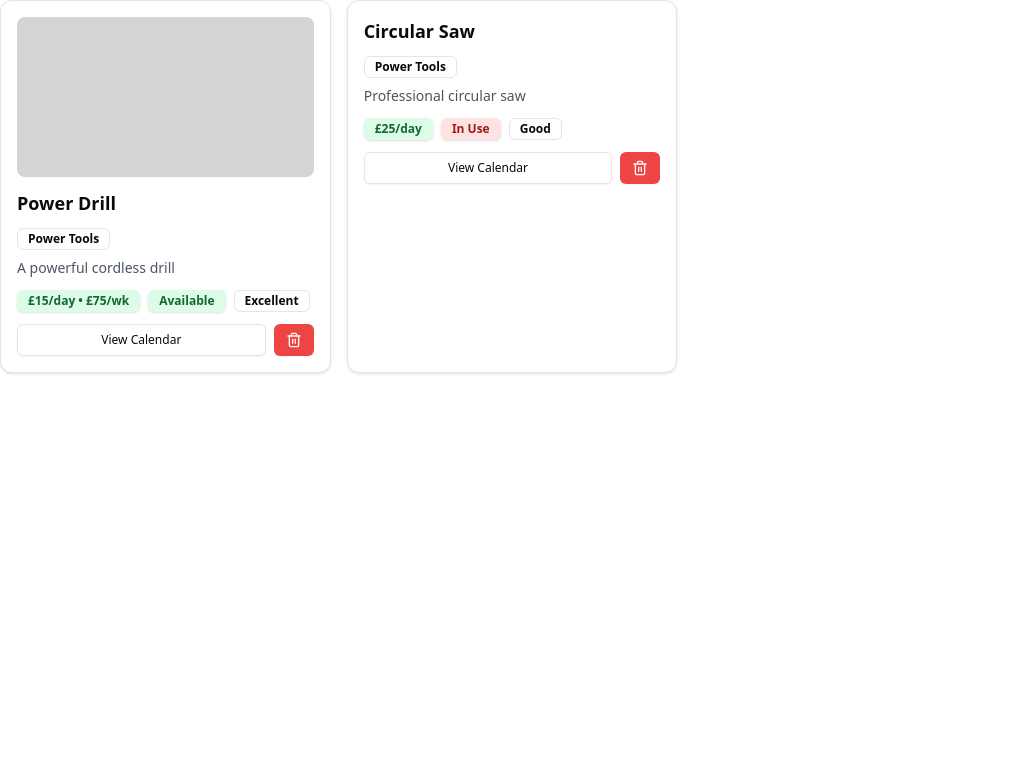
MyTools Component › Delete functionality › opens delete confirmation dialog when delete button clicked
What coordinates should you click on to do the following:
click the button without text below "£15/day • £75/wk"
I would click on:
 (294, 340)
Its box is [274,324,314,356].
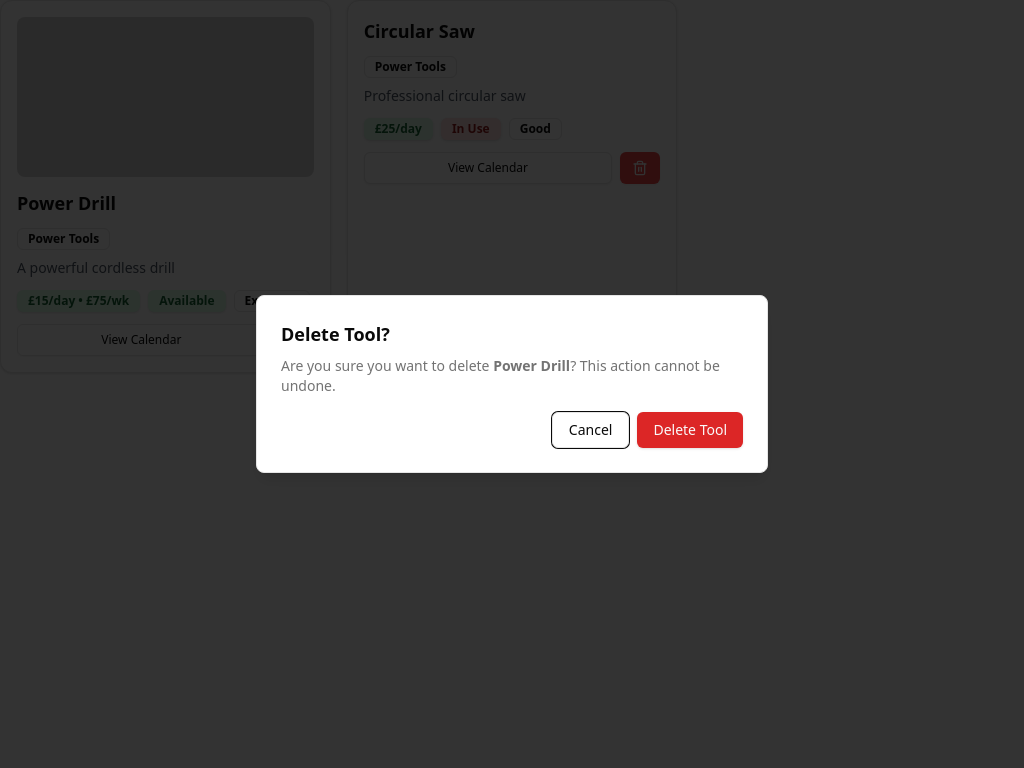
Expected: the dialog is shown, [256,295,768,473]
